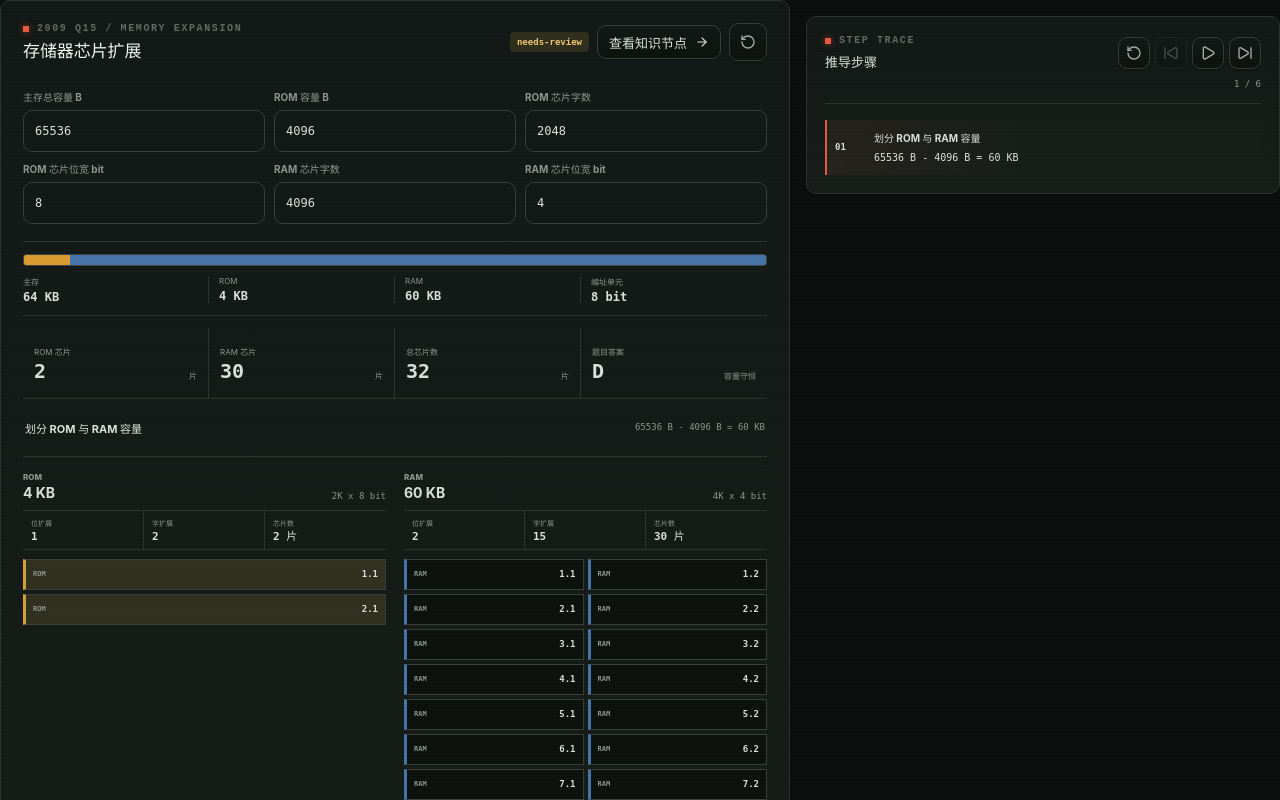
it: MemoryExpansionLabPanel › keeps the current derivation synchronized with step, play, and reset controls
Expected: the element named "当前推导事件" shows "划分 ROM 与 RAM 容量", 25,422 -> 142,436
Click the button named "下一步" at (1245, 53), box 1229,37 -> 1261,69
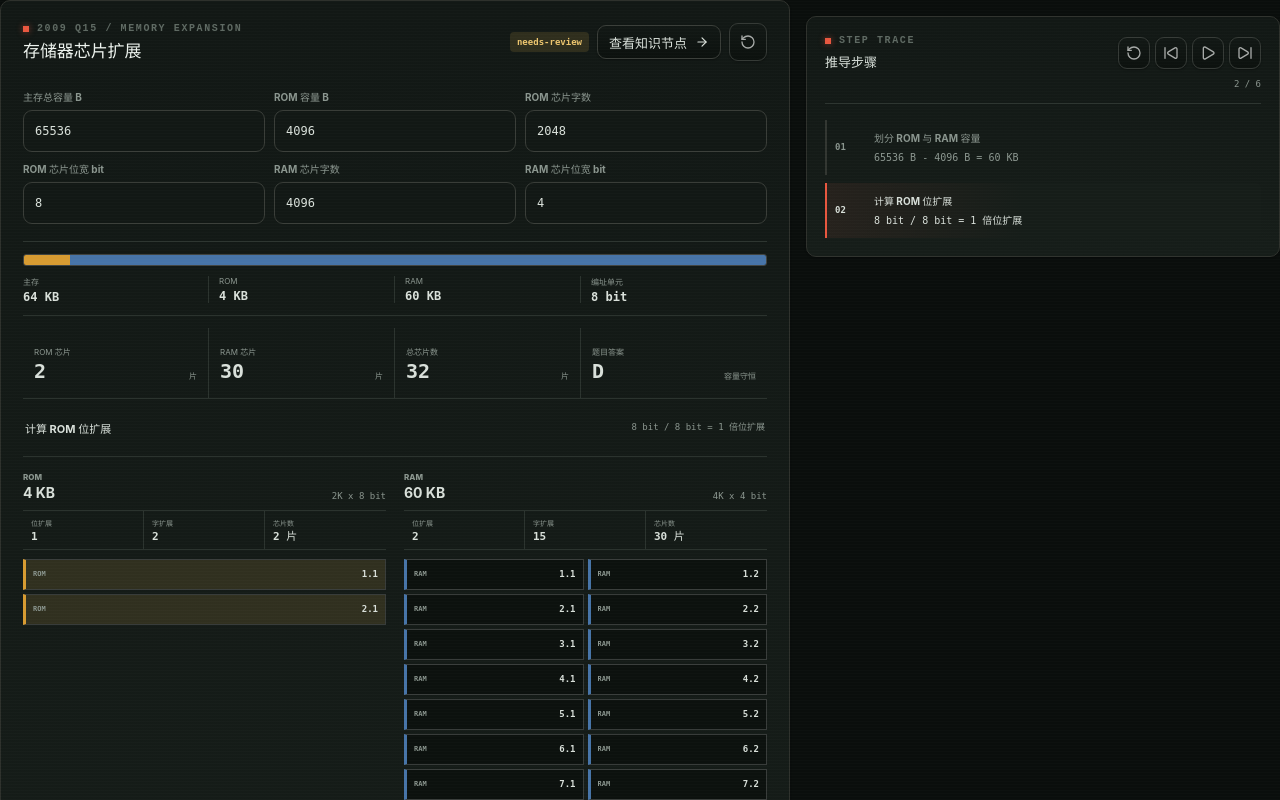
Expected: the element named "当前推导事件" shows "计算 ROM 位扩展", 25,422 -> 111,436
Click the button named "播放步骤" at (1208, 53), box 1192,37 -> 1224,69
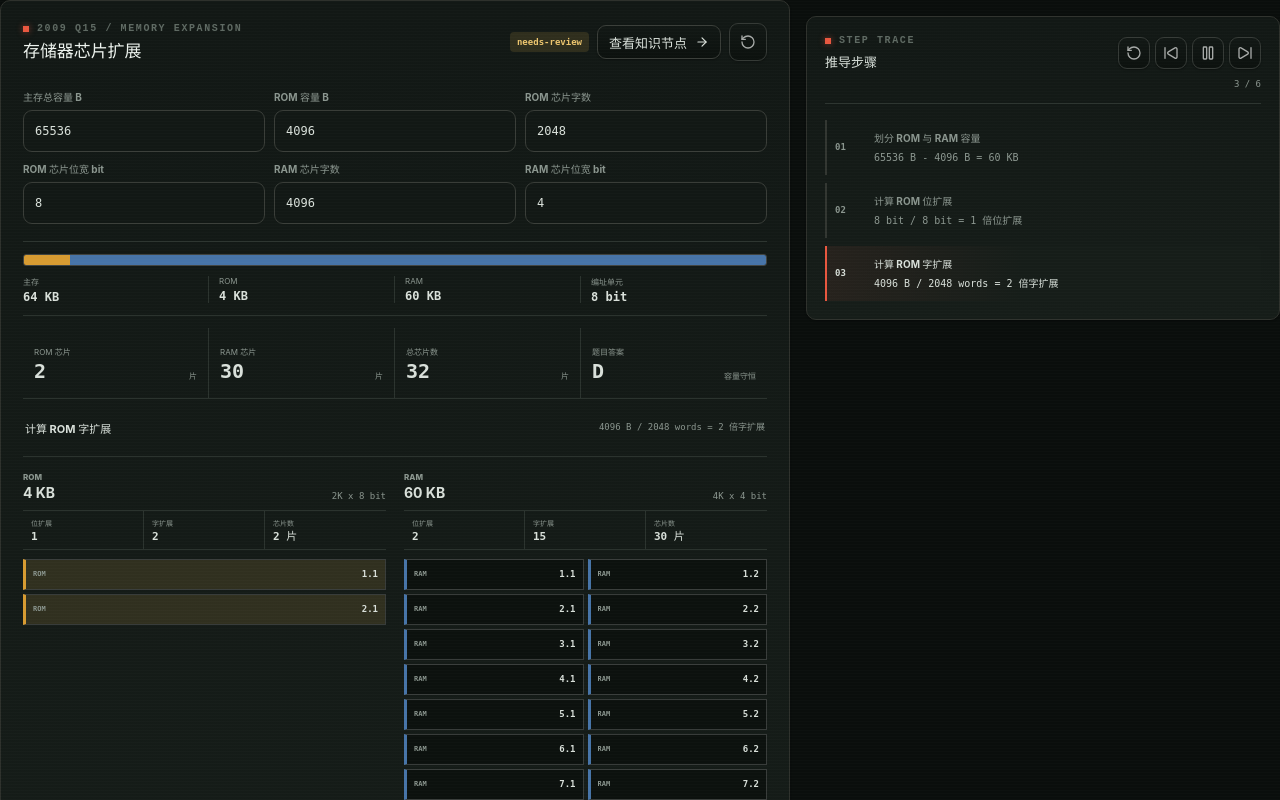
Expected: the element named "当前推导事件" does not show "计算 ROM 位扩展", 23,399 -> 767,457
Click the button named "暂停步骤" at (1208, 53), box 1192,37 -> 1224,69
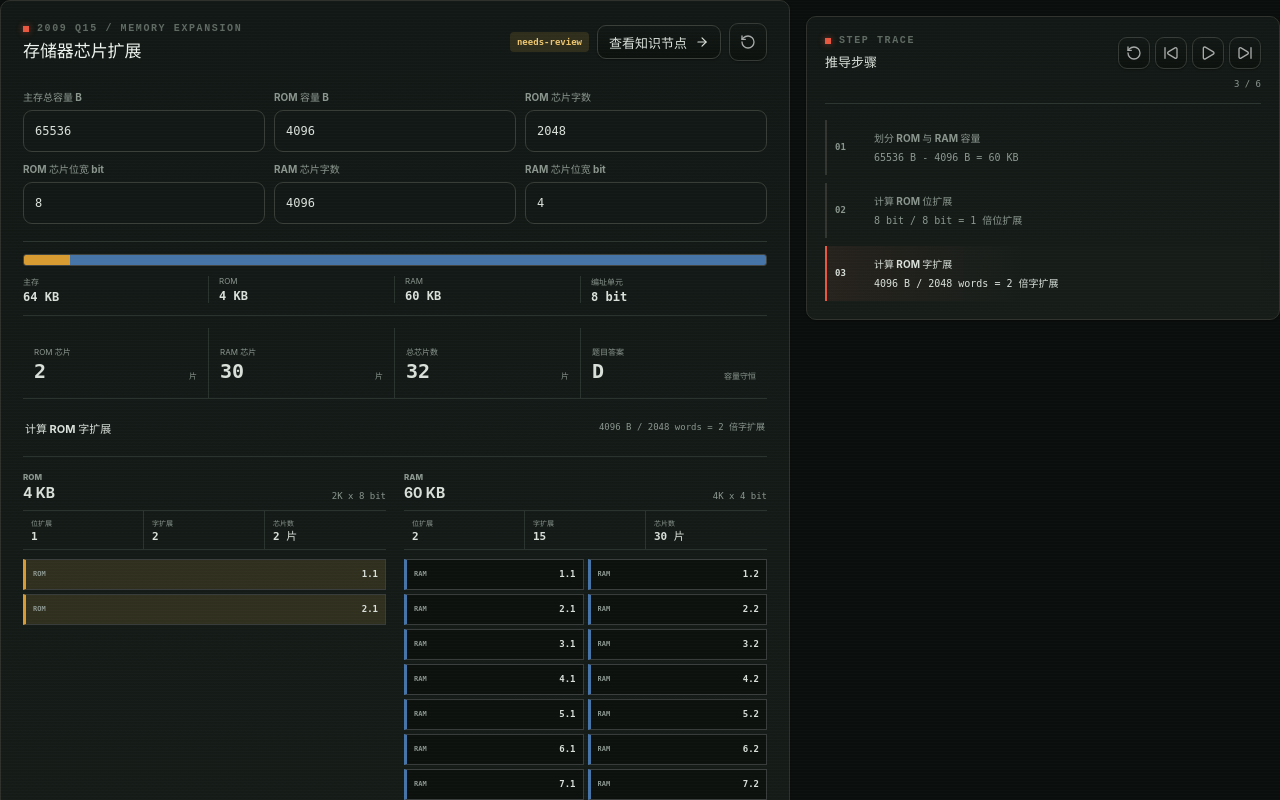
Click the button named "复位步骤" at (1134, 53), box 1118,37 -> 1150,69
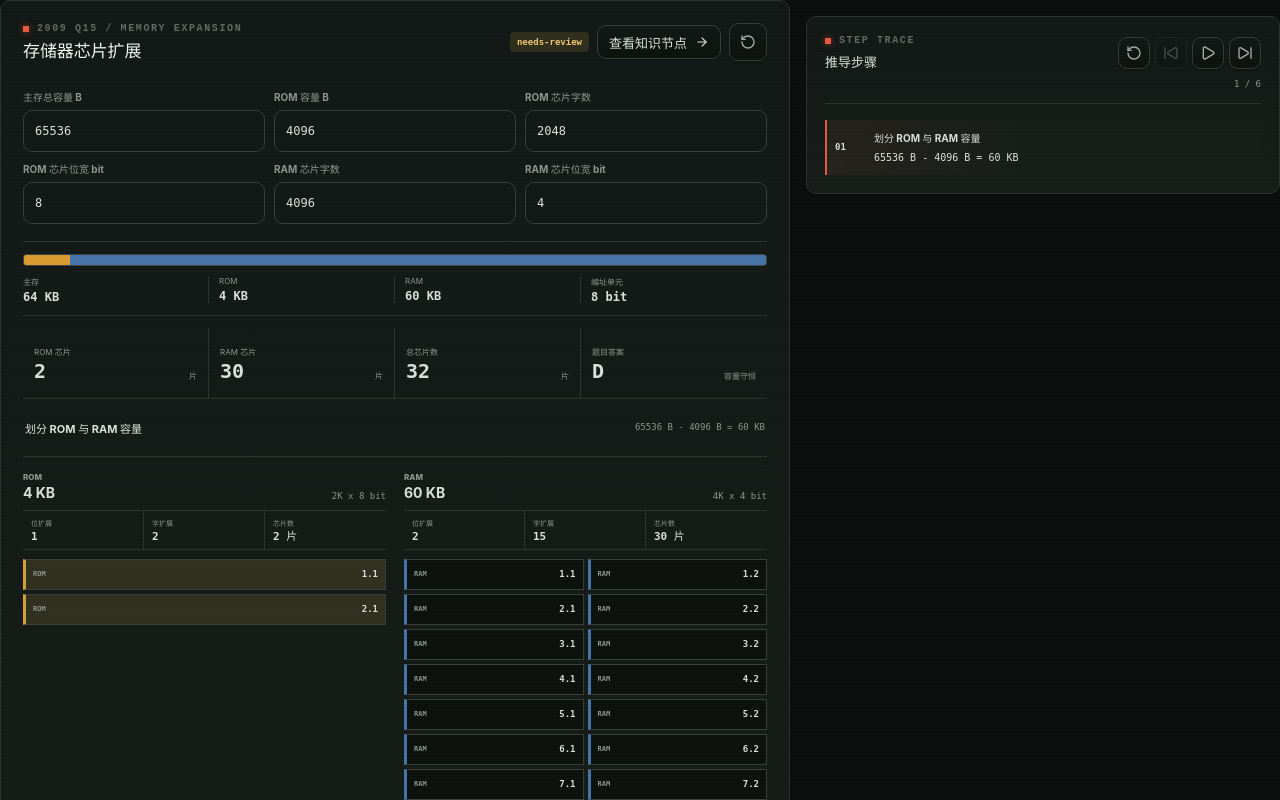
Expected: the element named "当前推导事件" shows "划分 ROM 与 RAM 容量", 25,422 -> 142,436
